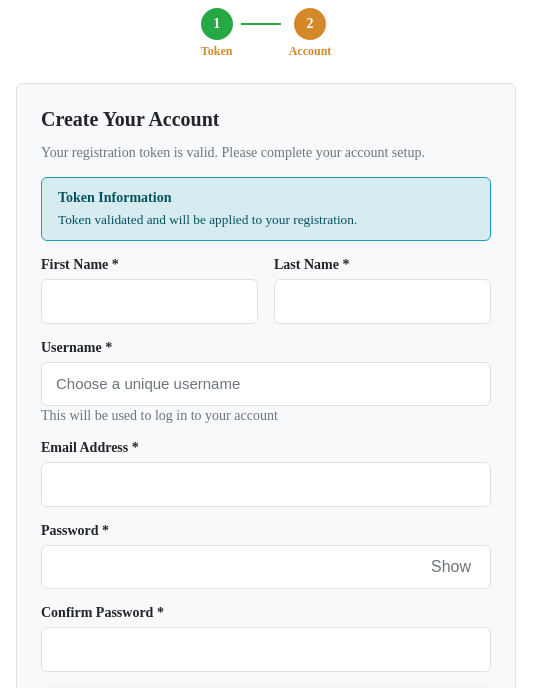
Test: TokenRegistrationComponent auto-login › shows the manual-login message when the credential fallback fails
This screenshot has width=533, height=688.
In the field labelled "First Name *": (150, 301) [41, 279, 258, 324], type "Token"
In the field labelled "Last Name *": (382, 301) [274, 279, 491, 324], type "User"
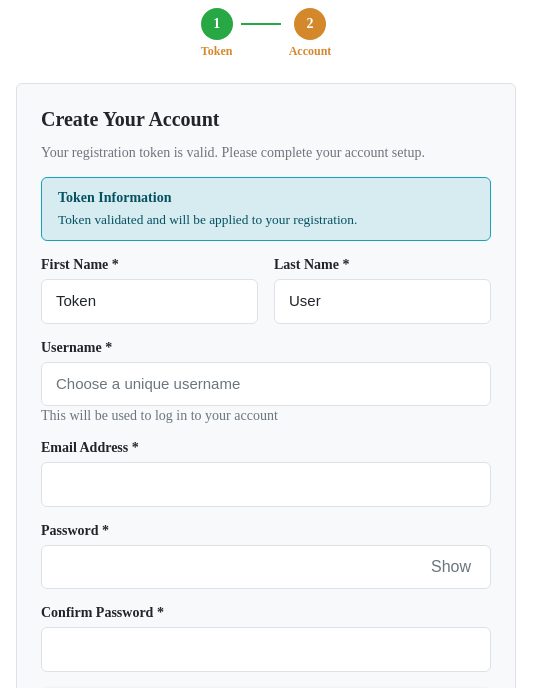
In the field labelled "Username *": (266, 384) [41, 362, 491, 406], type "tokenuser"
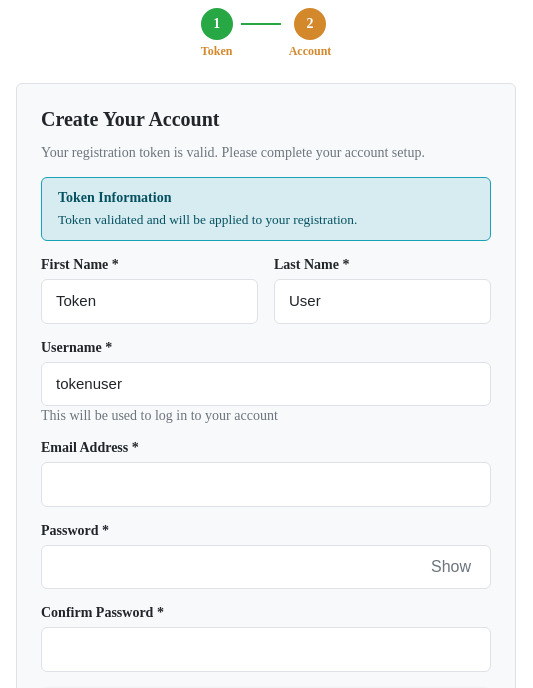
In the field labelled "Email Address *": (266, 484) [41, 462, 491, 506], type "token@example.com"
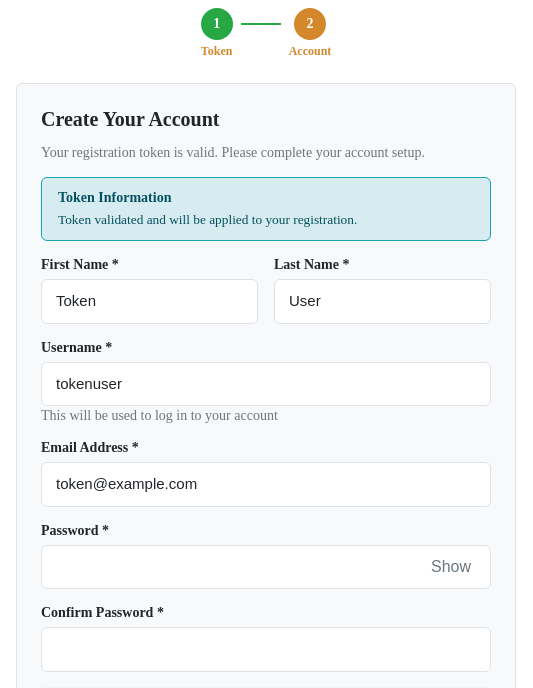
In the password field labelled "Password *": (266, 567) [41, 544, 491, 589], type "P@ssw0rd123"
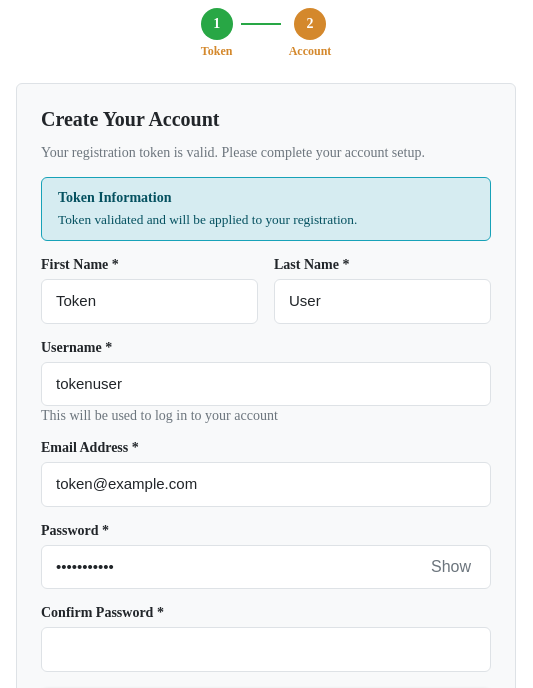
In the password field labelled "Confirm Password *": (266, 649) [41, 627, 491, 672], type "P@ssw0rd123"
(page scrolled)
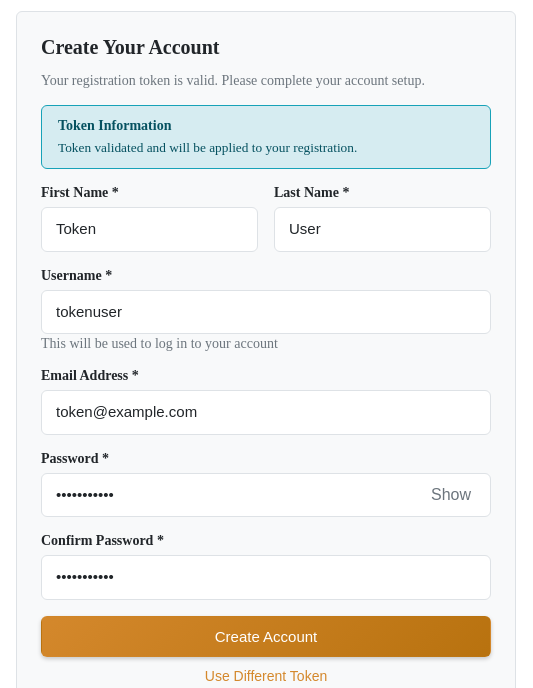
Click the button "Create Account": click(266, 636) [41, 616, 491, 656]
(page scrolled)
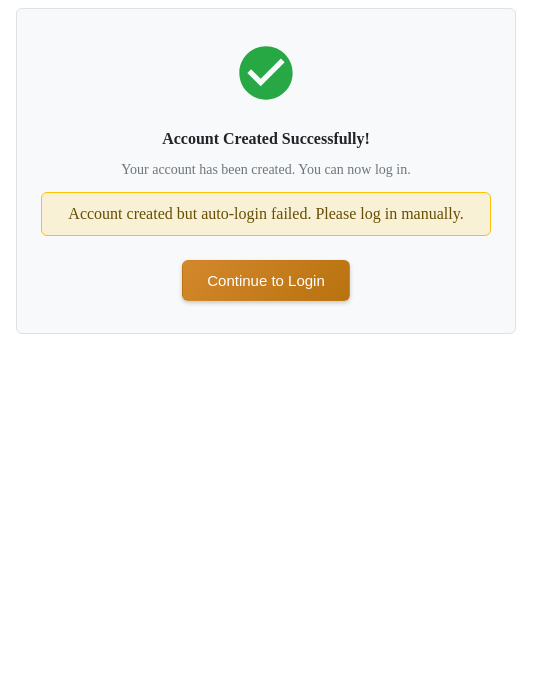
Expected: the text "log in manually" is shown, [68, 205, 464, 222]
